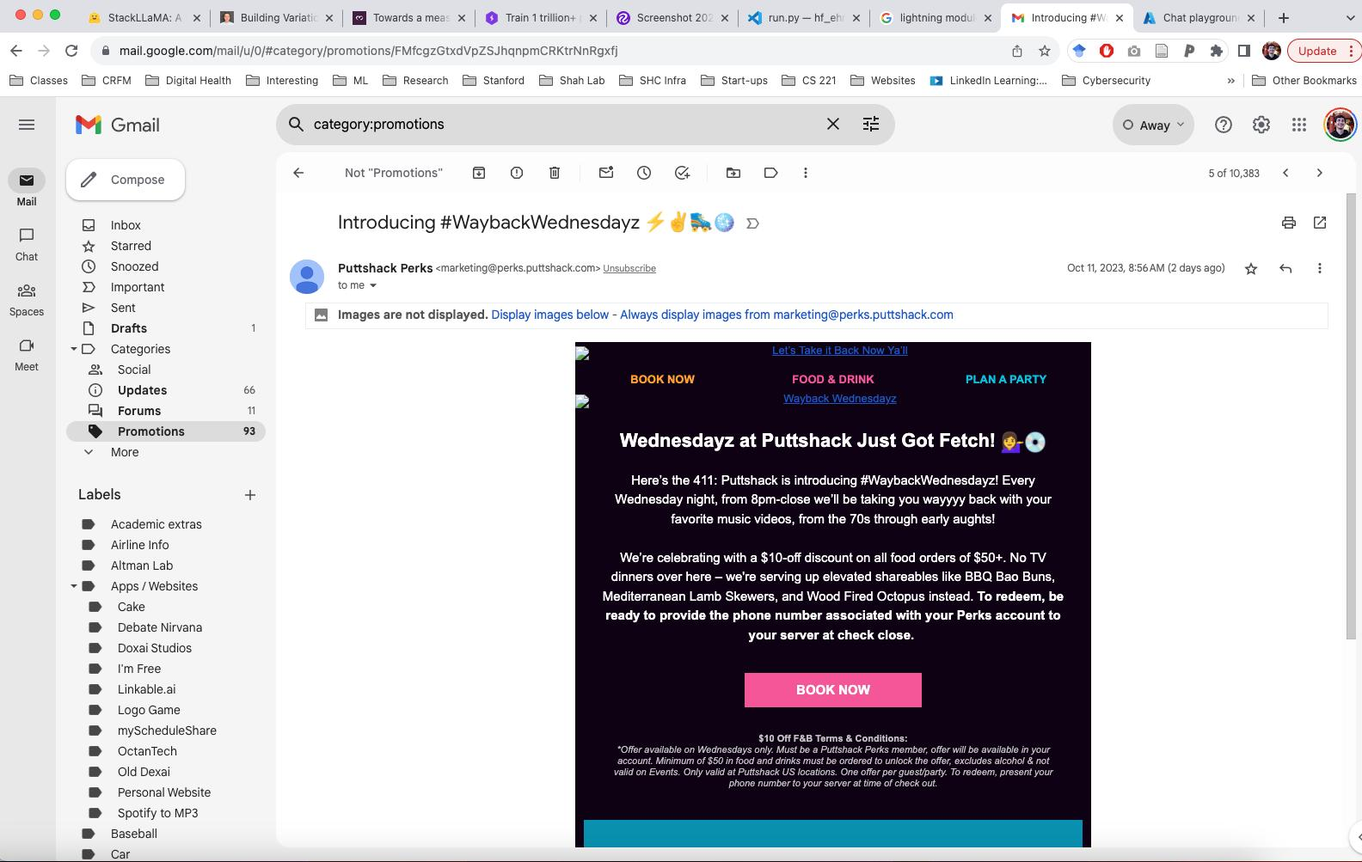webelement: (573, 342, 1089, 844), (321, 205, 780, 244), (334, 255, 604, 277), (334, 158, 458, 191), (1264, 206, 1309, 242), (715, 155, 751, 197), (664, 155, 702, 194), (628, 156, 664, 196), (539, 156, 577, 190), (595, 153, 625, 194), (757, 156, 789, 192), (500, 159, 537, 190), (1238, 252, 1270, 287), (463, 160, 498, 190), (1273, 255, 1304, 288), (279, 165, 317, 190), (1308, 209, 1334, 241)
